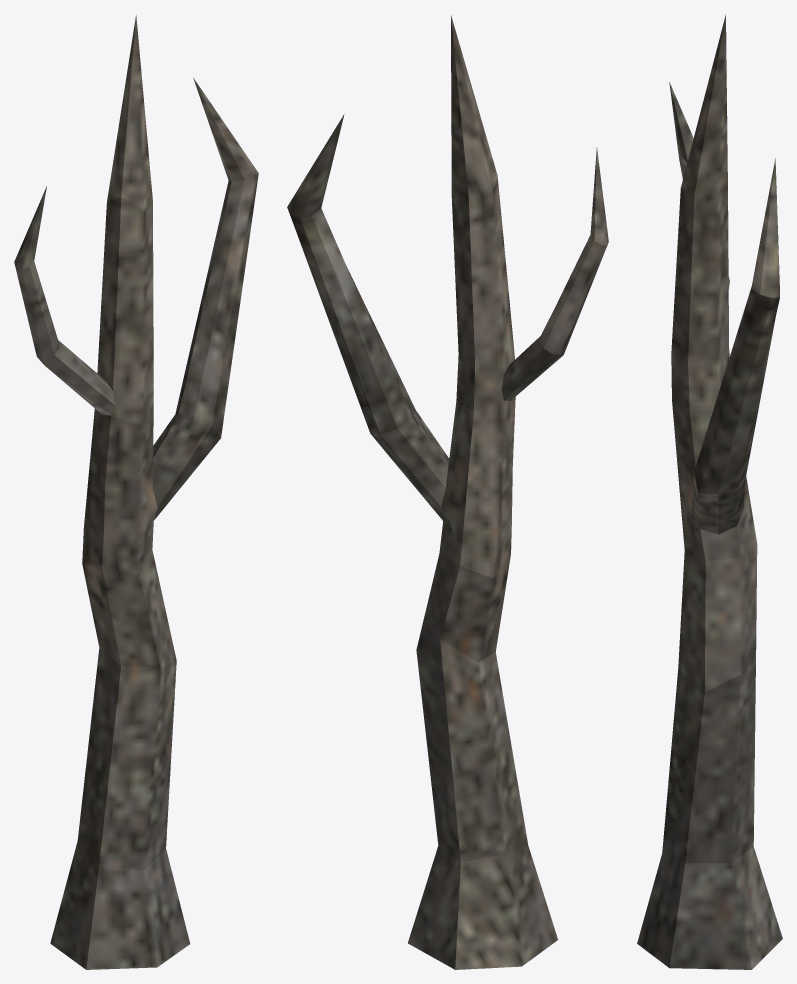
File: spookytree.obj
3 views of the same model, side by side, from view 1: azimuth 30°, elevation 25°; view 2: azimuth 150°, elevation 25°; view 3: azimuth 270°, elevation 25° (orthographic). The views are drawn at different scales.
Parts seen in each view (by area): view 1: Tree_Dead_04; view 2: Tree_Dead_04; view 3: Tree_Dead_04.
Boxes of the visible parts, box(x1,y1,x2,y2) form: Tree_Dead_04: box(14, 15, 258, 969); Tree_Dead_04: box(287, 15, 608, 969); Tree_Dead_04: box(637, 14, 782, 969).
Size of the model in its own units: 0.6629 by 2.09 by 0.2943.
1 material, 1 textured.
